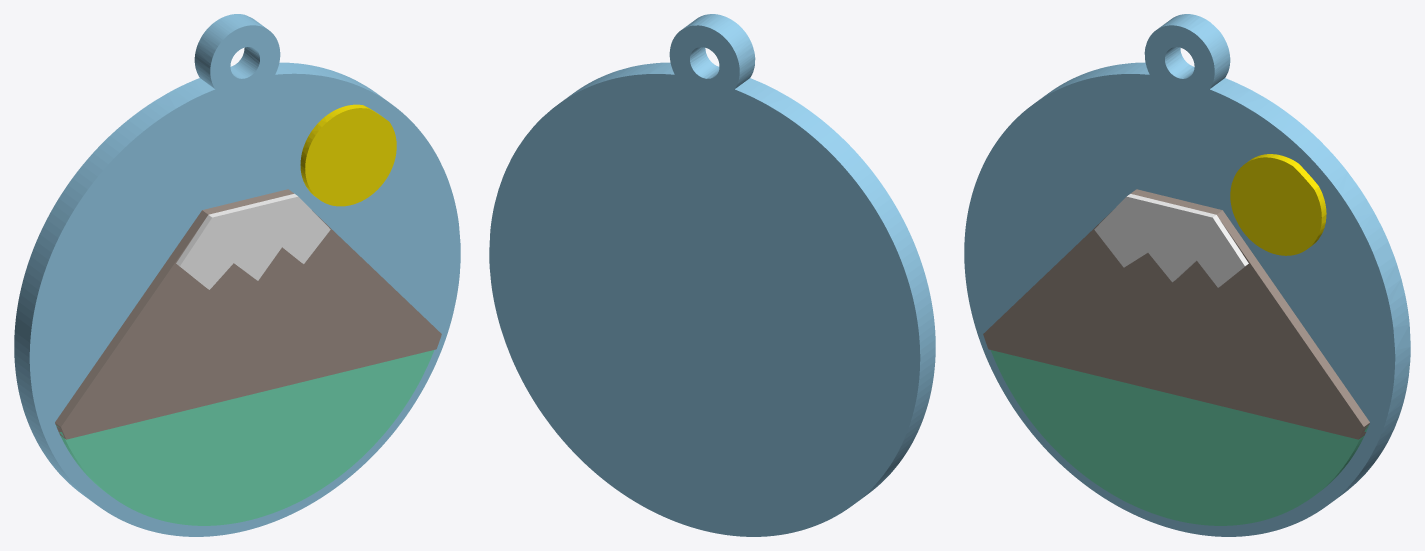
File: medallon-cotopaxi.glb
3 views of the same model, side by side, from view 1: azimuth 30°, elevation 25°; view 2: azimuth 150°, elevation 25°; view 3: azimuth 330°, elevation 25° (orthographic).
Parts seen in each view (by area): view 1: celeste; view 2: celeste; view 3: celeste.
Boxes of the visible parts, x1,y1,x2,y2 form: celeste: [14, 14, 460, 536]; celeste: [489, 14, 935, 536]; celeste: [964, 14, 1410, 536].
Bounding box in the file's own units: 32 × 35.8 × 3.3.
1 material, 1 textured.
